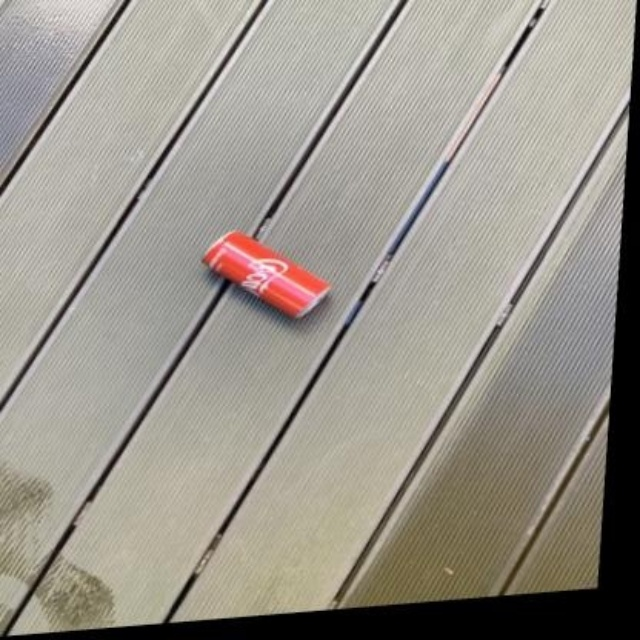trash: (203, 231, 329, 317)
